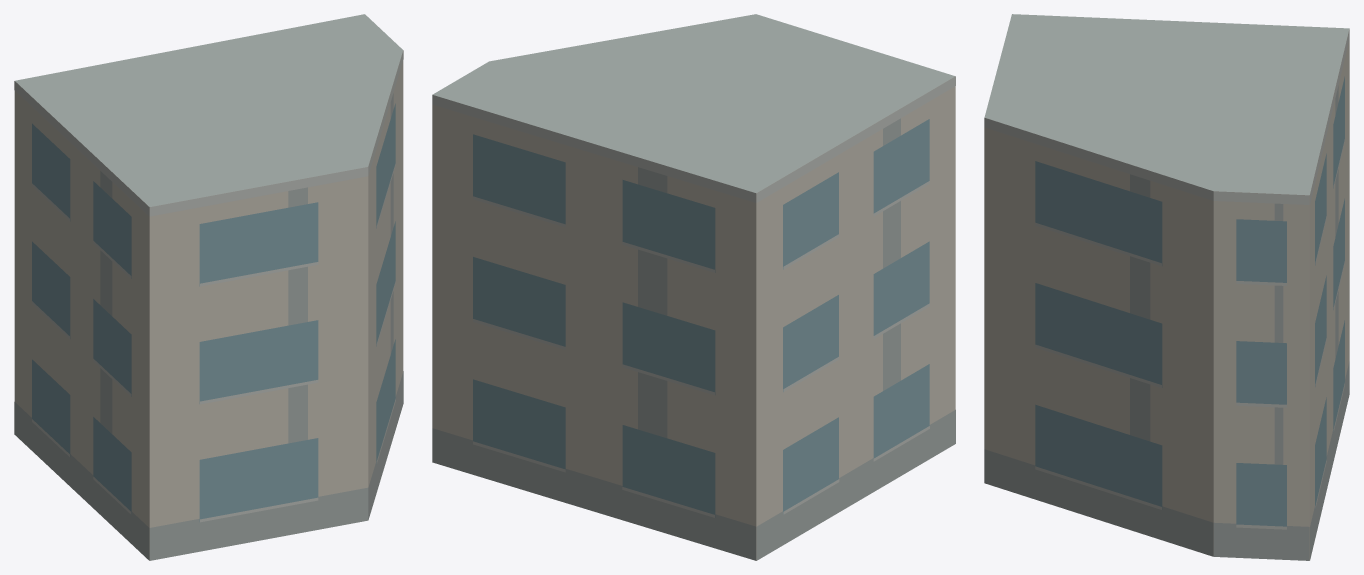
File: residential-c72b03c9-c6e9-499d-b807-a23fa8dce41f.glb
3 renders of one model, left to right at view 1: azimuth 30°, elevation 25°; view 2: azimuth 150°, elevation 25°; view 3: azimuth 270°, elevation 25°, orthographic. The views are drawn at different scales.
Parts seen in each view (by area): view 1: residential-c72b03c9-c6e9-499d-b807-a23fa8dce41f.tmp; view 2: residential-c72b03c9-c6e9-499d-b807-a23fa8dce41f.tmp; view 3: residential-c72b03c9-c6e9-499d-b807-a23fa8dce41f.tmp.
Part boxes in pixels (x1,y1,x2,y2): residential-c72b03c9-c6e9-499d-b807-a23fa8dce41f.tmp: (14, 14, 403, 560); residential-c72b03c9-c6e9-499d-b807-a23fa8dce41f.tmp: (432, 14, 955, 560); residential-c72b03c9-c6e9-499d-b807-a23fa8dce41f.tmp: (984, 14, 1349, 560).
Size of the model in its own units: 9.74 by 9.15 by 8.29.
